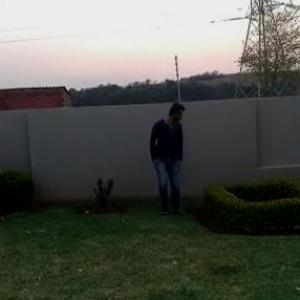follow: (146, 94, 186, 226)
